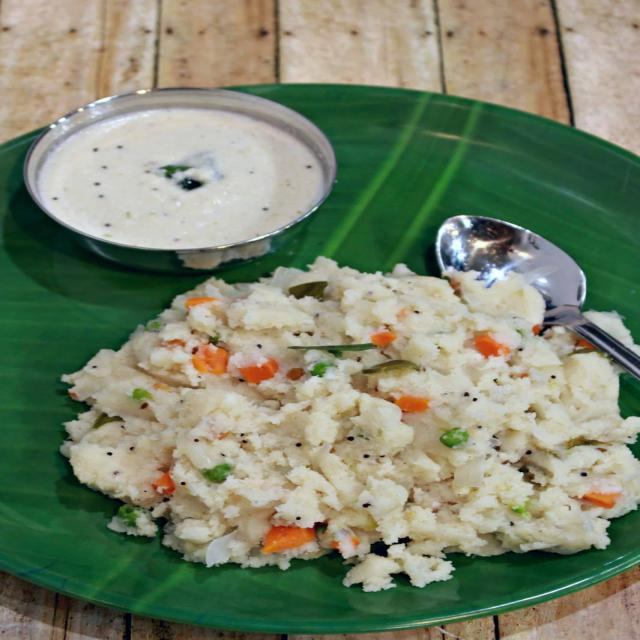upma: (45, 248, 640, 610)
